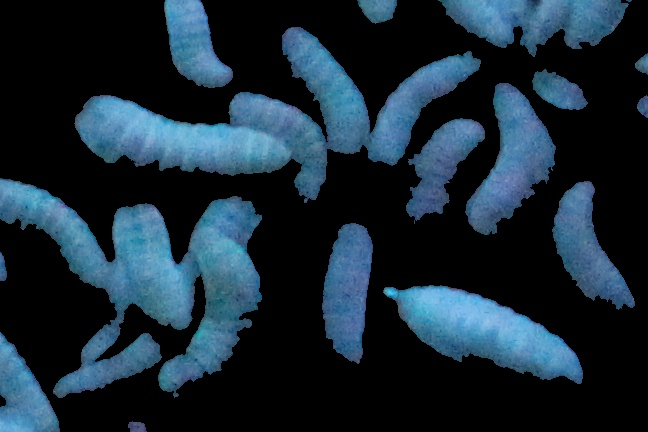larvae: (389, 282, 585, 399), (70, 94, 289, 185), (160, 232, 266, 403), (468, 80, 553, 244), (554, 172, 637, 327), (375, 56, 484, 173), (1, 180, 111, 289), (397, 115, 489, 242), (277, 28, 361, 159), (108, 206, 189, 335), (316, 213, 373, 380), (163, 1, 237, 87), (51, 338, 163, 390), (1, 334, 63, 427), (439, 1, 516, 45), (532, 64, 589, 118), (520, 1, 564, 53)
